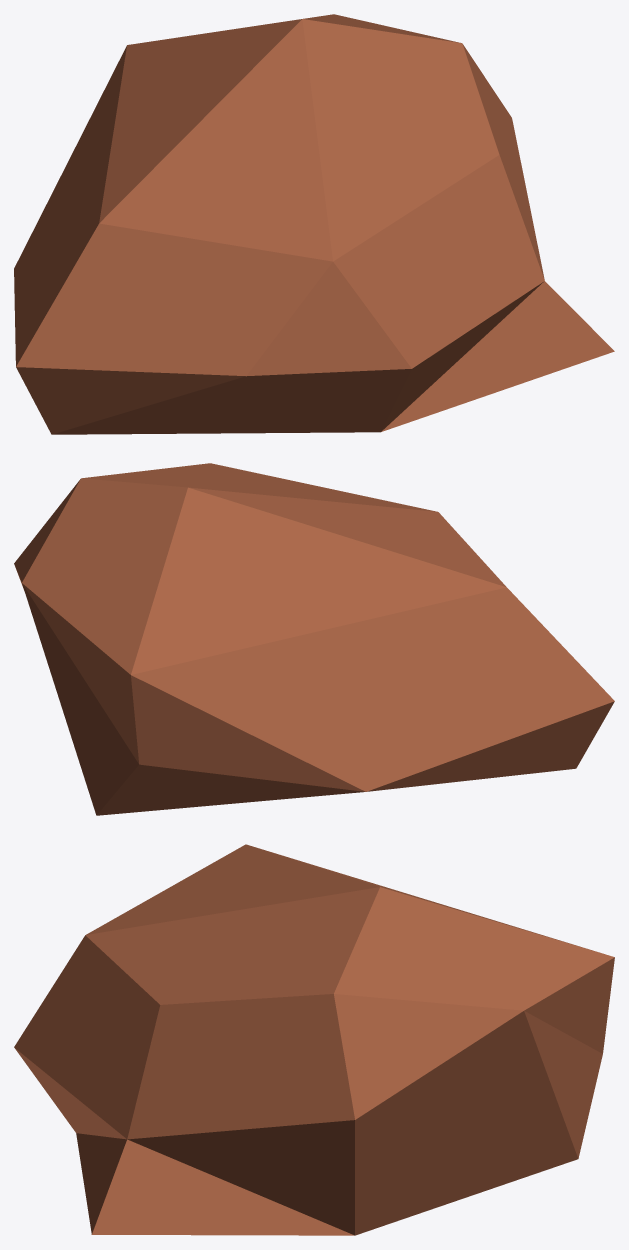
The model's file is small_rock3.glb.
3 renders of one model, top to bottom at view 1: azimuth 30°, elevation 25°; view 2: azimuth 150°, elevation 25°; view 3: azimuth 270°, elevation 25°, orthographic. The views are drawn at different scales.
Visible parts, largest first — view 1: small_rock3; view 2: small_rock3; view 3: small_rock3.
Boxes of the visible parts, bbox=[...] form: small_rock3: bbox=[14, 14, 614, 434]; small_rock3: bbox=[14, 463, 614, 815]; small_rock3: bbox=[14, 844, 614, 1235].
Bounding box in the file's own units: 1.27 × 0.7243 × 1.17.
